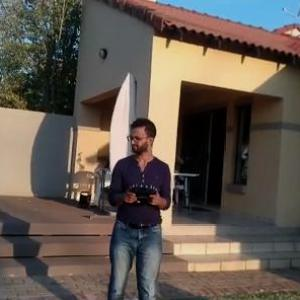follow: (102, 112, 172, 299)
